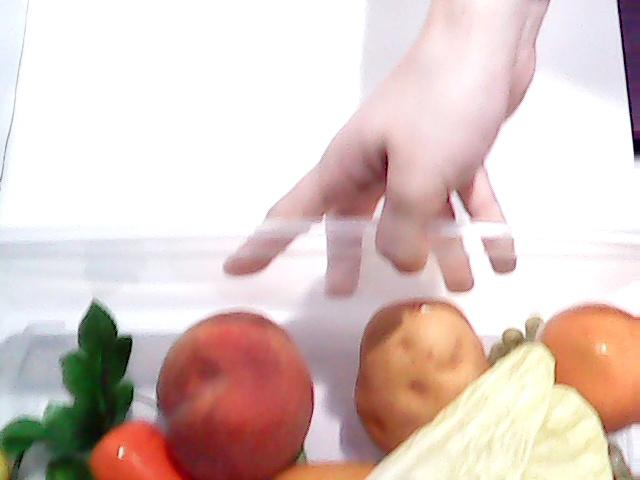carrot: (0, 298, 184, 480)
lemon: (520, 296, 640, 426)
napa cabbage: (229, 282, 635, 480)
peach: (154, 306, 316, 480)
potato: (354, 296, 491, 458)
